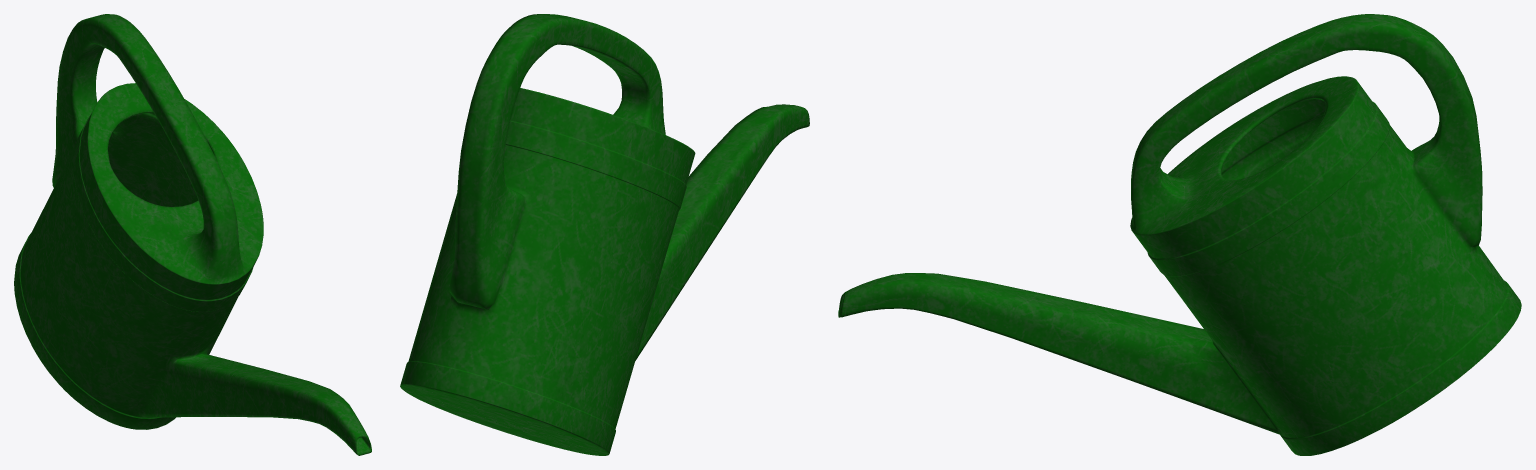
Rendered from wateringcan.fbx.
3 renders of one model, left to right at view 1: azimuth 30°, elevation 25°; view 2: azimuth 150°, elevation 25°; view 3: azimuth 270°, elevation 25°, orthographic. The views are drawn at different scales.
Visible parts, largest first — view 1: node_id5; view 2: node_id5; view 3: node_id5.
Boxes of the visible parts, x1,y1,x2,y2 form: node_id5: (14,14,371,455); node_id5: (400,14,809,455); node_id5: (838,14,1521,455).
Bounding box in the file's own units: 0.1419 × 0.3624 × 0.528.
Materials: 1 (1 with a texture image).
